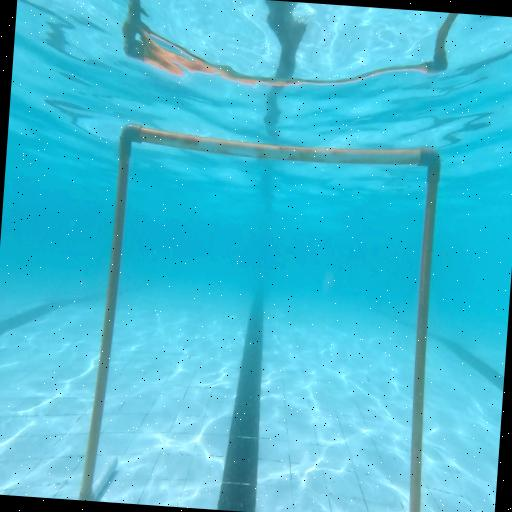gate: (79, 121, 447, 512)
